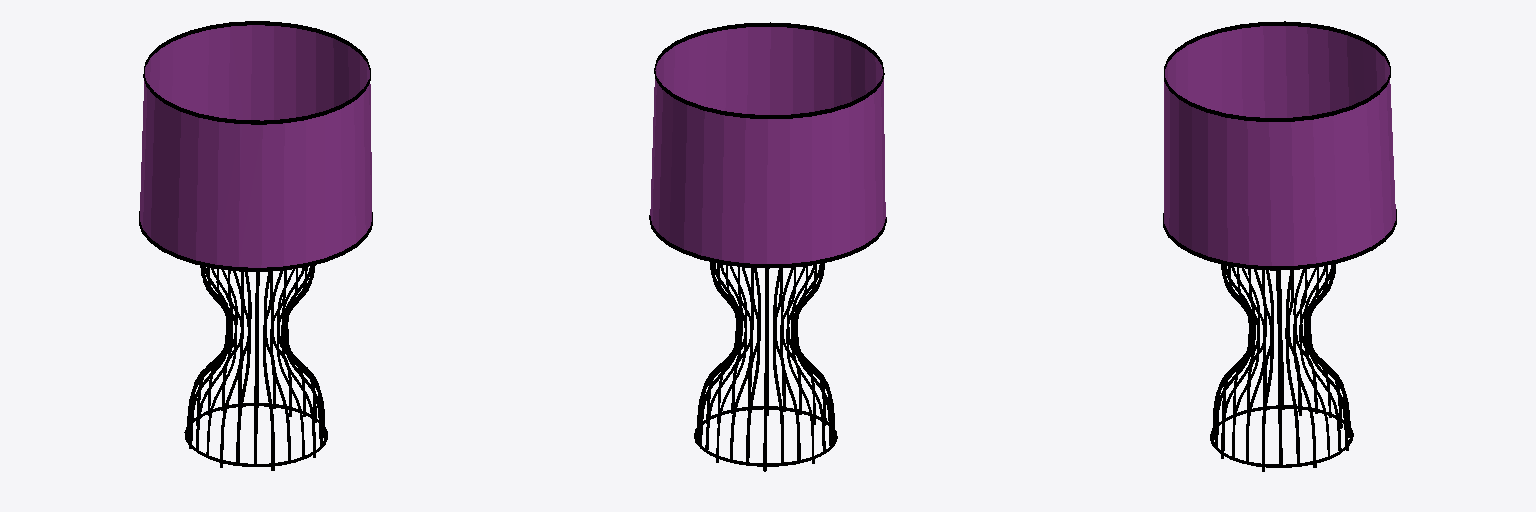
Rendered from light06.obj.
The picture shows the model from 3 angles: view 1: azimuth 30°, elevation 25°; view 2: azimuth 150°, elevation 25°; view 3: azimuth 270°, elevation 25°; orthographic projection.
Parts seen in each view (by area): view 1: Object.1; view 2: Object.1; view 3: Object.1.
Part boxes in pixels (bbox=[...]): Object.1: bbox=[139, 21, 372, 470]; Object.1: bbox=[649, 22, 886, 471]; Object.1: bbox=[1163, 21, 1396, 471].
Bounding box in the file's own units: 7.45 × 13.1 × 7.41.